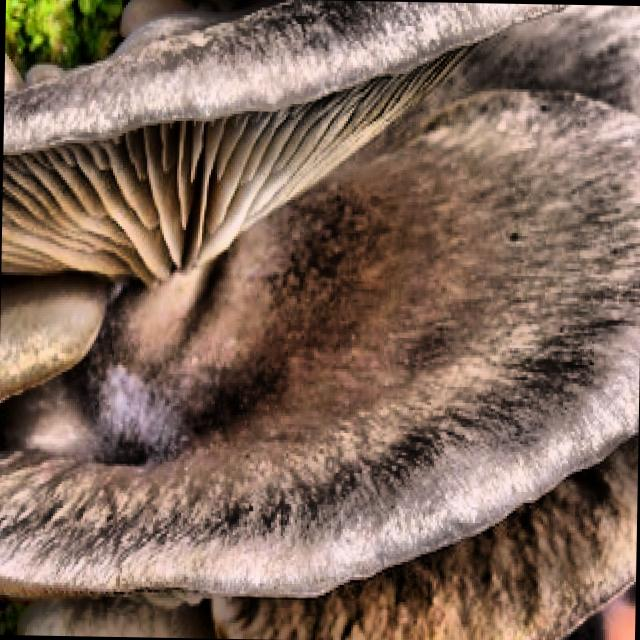Affected: (283, 258, 575, 490), (218, 0, 423, 87)
